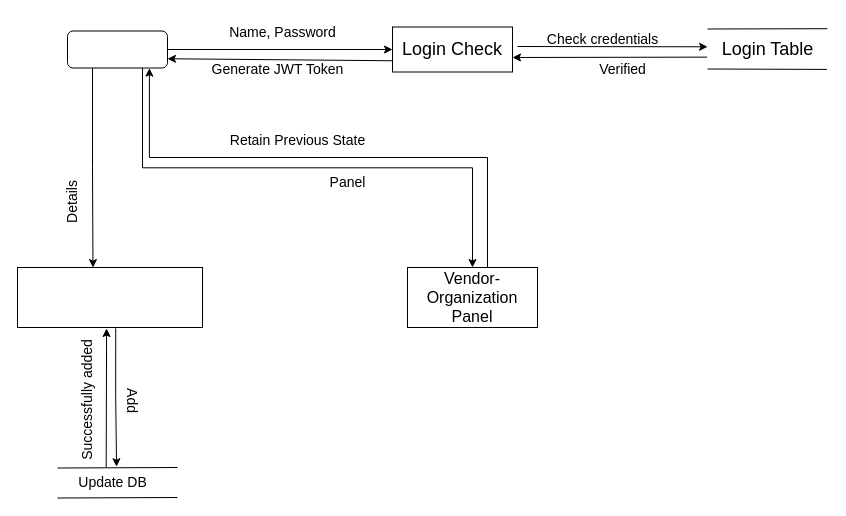
Some shapes in this 846 by 516 pixel diagram are drawn without their labels. The shapes that lost their labels are listed below. From the top down, each one's centre as x and y in pixels, then its label:
(117,49): Vendor
(109,297): Total Vendor Assets, Confirm Order
